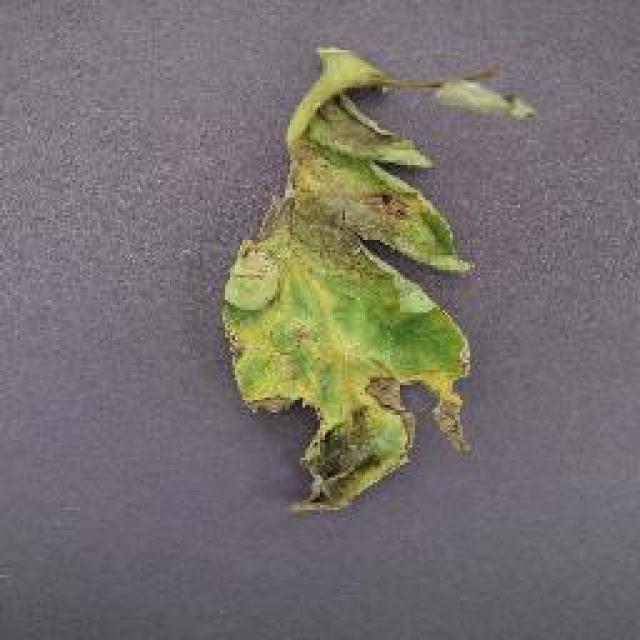leaf blight: (225, 43, 541, 516)
